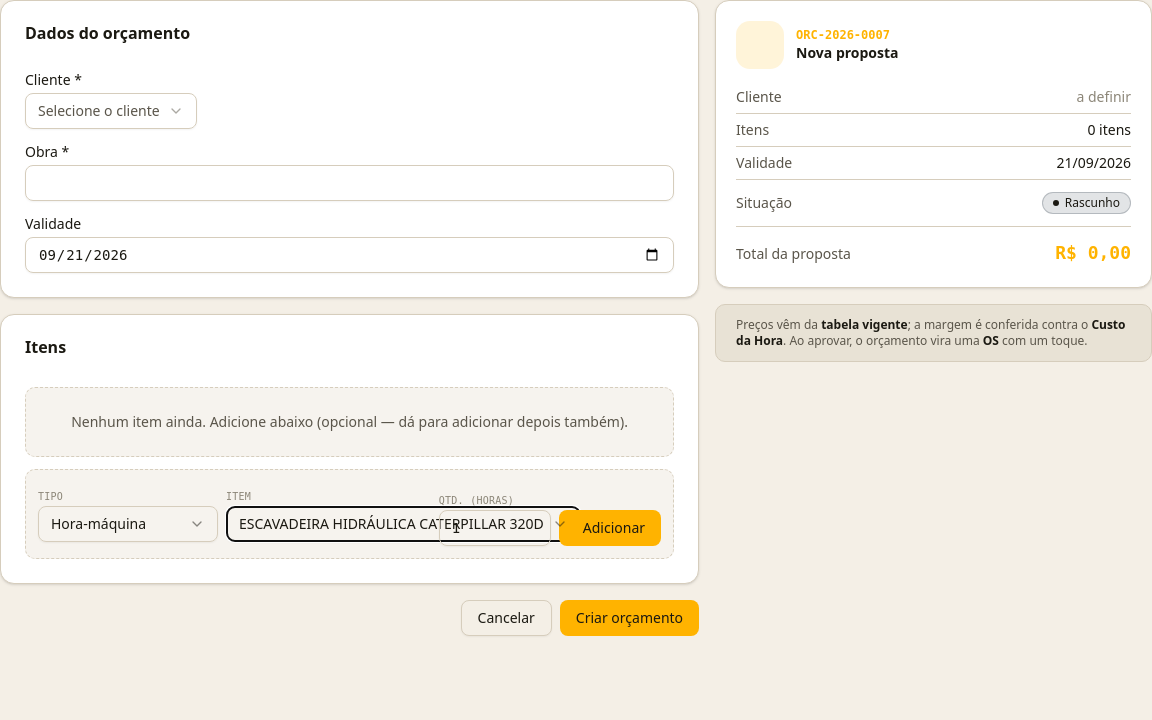
OrcamentoForm › adiciona um item de hora-máquina do catálogo real e atualiza o resumo ao vivo
This screenshot has width=1152, height=720.
Earlier steps of the test are not shown.
Click the button "Adicionar" at (610, 528), box [559,510,661,546]
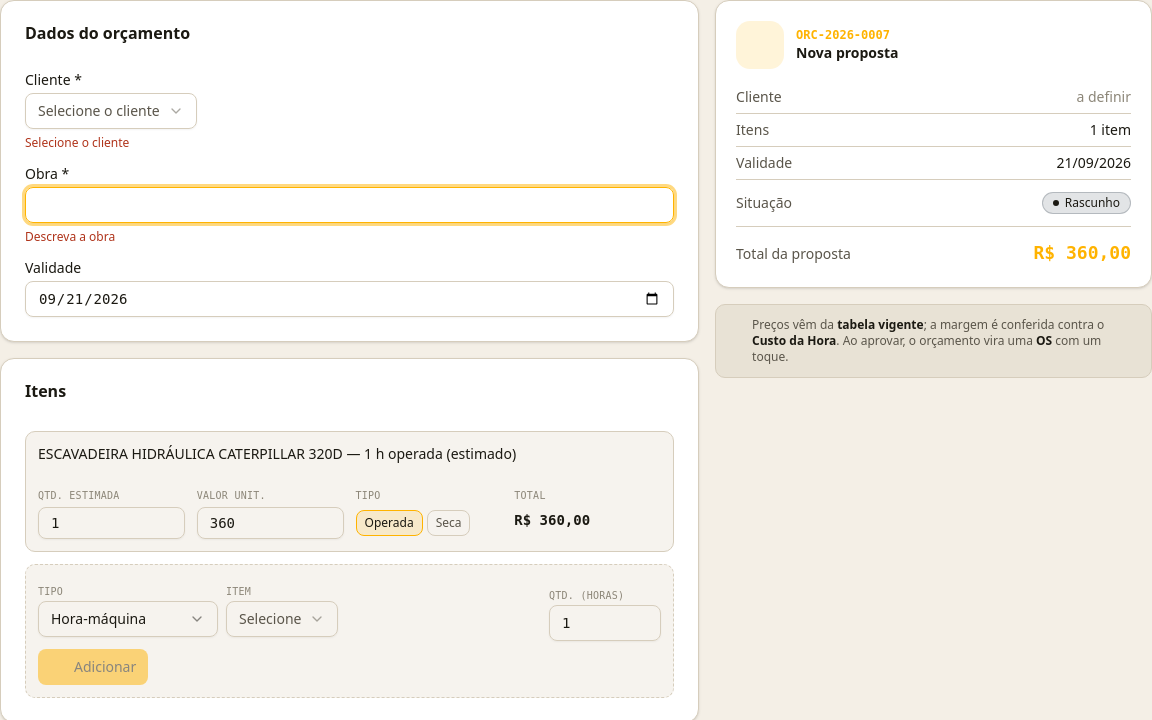
Check: the text "ESCAVADEIRA HIDRÁULICA CATERPILLAR 320D — 1 h operada (estimado)" is shown, box [38,444,516,464]
Check: the text "1 item" is shown, box [1090,120,1131,140]
Check: the text "R$ 360,00" is shown 2 times, box [514,512,590,528]; [1034,239,1131,267]
